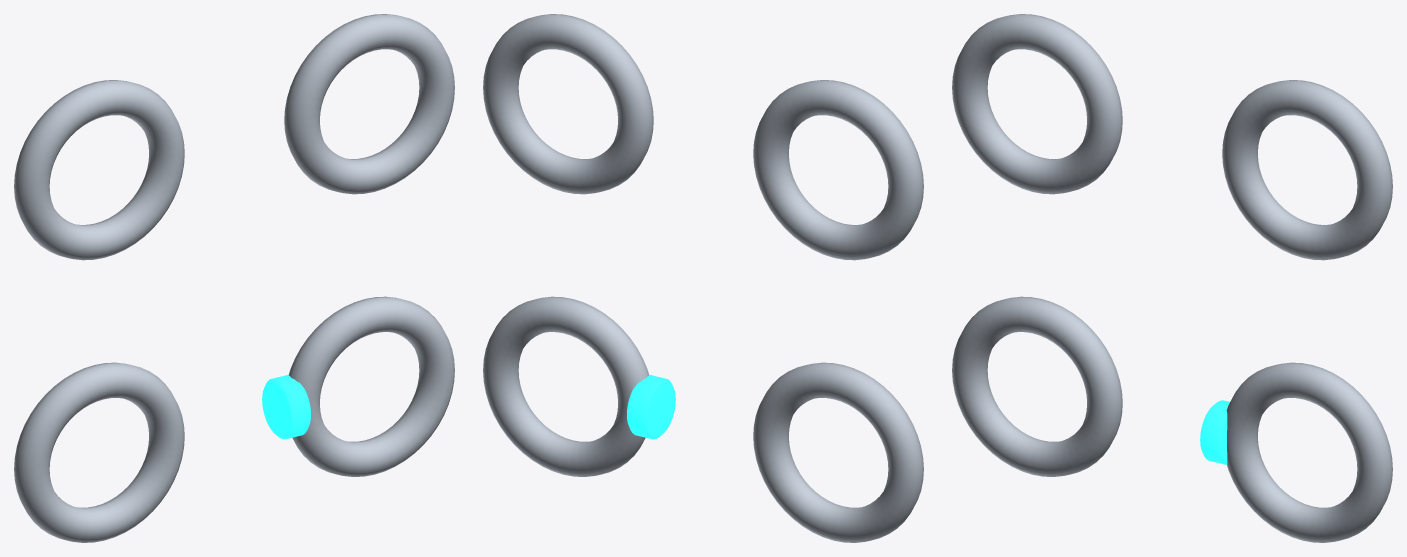
File: tower_skywatch_damage_s2.glb
3 renders of one model, left to right at view 1: azimuth 30°, elevation 25°; view 2: azimuth 150°, elevation 25°; view 3: azimuth 330°, elevation 25°, orthographic.
Parts seen in each view (by area): view 1: skywatch_crown1, skywatch_crown2, skywatch_crown3, skywatch_crown0, skywatch_up_damage_l2_stud; view 2: skywatch_crown1, skywatch_crown2, skywatch_crown3, skywatch_crown0, skywatch_up_damage_l2_stud; view 3: skywatch_crown3, skywatch_crown1, skywatch_crown2, skywatch_crown0, skywatch_up_damage_l2_stud.
Boxes of the visible parts, x1,y1,x2,y2 form: skywatch_crown1: (284, 14, 454, 194); skywatch_crown2: (14, 362, 184, 542); skywatch_crown3: (14, 80, 184, 260); skywatch_crown0: (289, 296, 454, 476); skywatch_up_damage_l2_stud: (262, 375, 310, 439); skywatch_crown1: (483, 14, 653, 194); skywatch_crown2: (753, 362, 923, 542); skywatch_crown3: (753, 80, 923, 260); skywatch_crown0: (483, 296, 648, 476); skywatch_up_damage_l2_stud: (627, 375, 675, 439); skywatch_crown3: (952, 14, 1122, 194); skywatch_crown1: (1222, 80, 1392, 260); skywatch_crown2: (952, 296, 1122, 476); skywatch_crown0: (1226, 362, 1392, 542); skywatch_up_damage_l2_stud: (1200, 400, 1229, 464).
Size of the model in its own units: 0.452 by 0.452 by 0.056.
